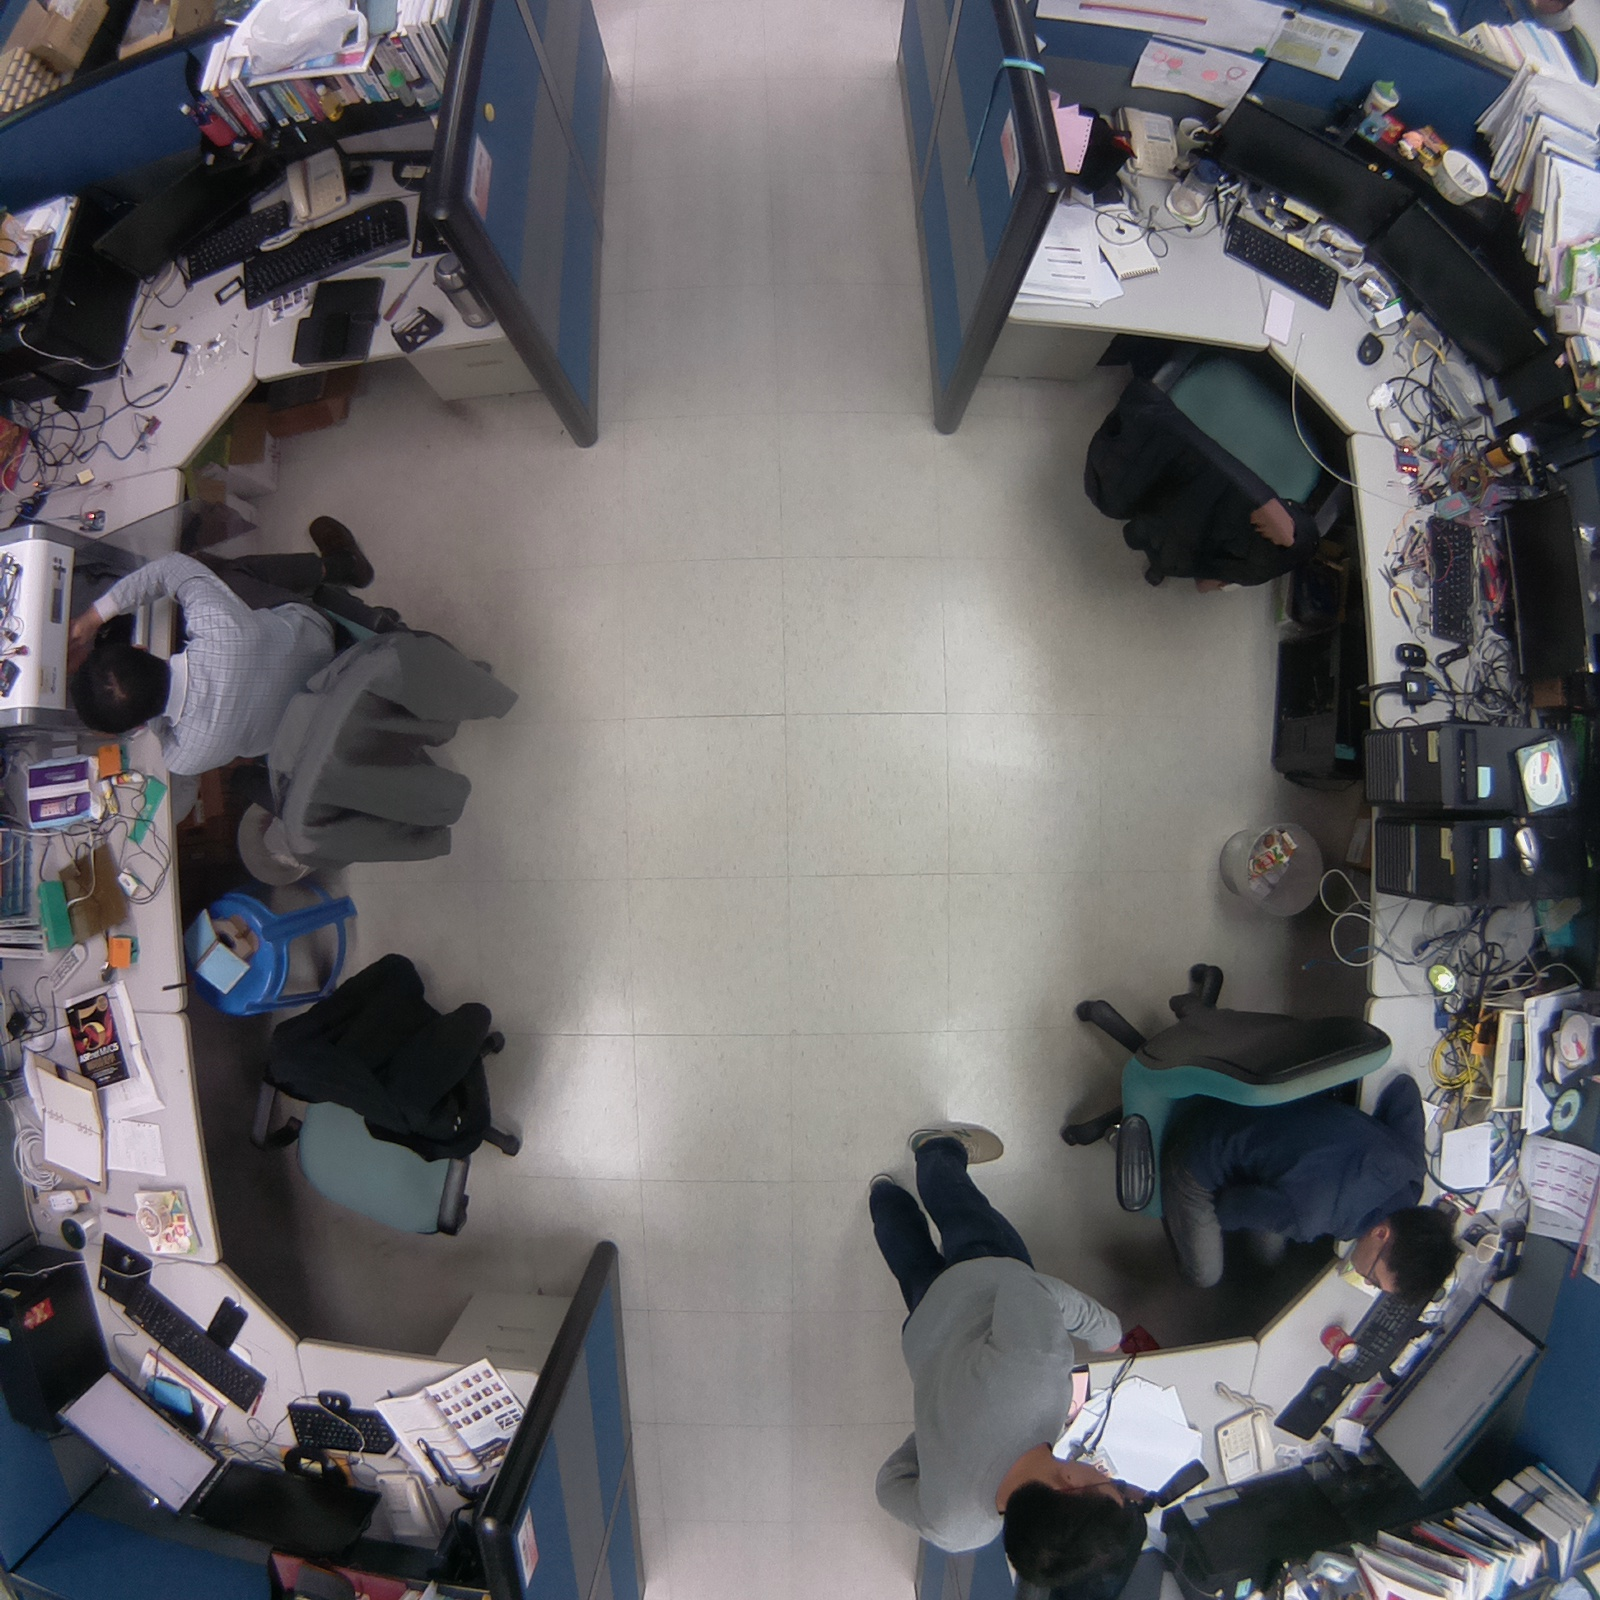chair: (237, 937, 529, 1260), (1058, 329, 1373, 617)
head: (989, 1440, 1154, 1600), (1346, 1195, 1463, 1314), (61, 631, 174, 746)
sitting: (48, 488, 519, 901), (1032, 934, 1462, 1317)
standing: (851, 1115, 1150, 1600)
